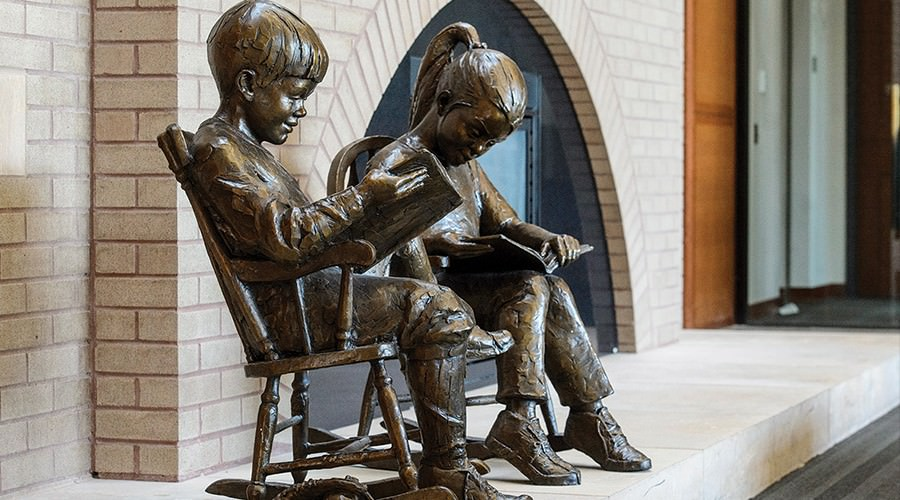person-like: (186, 2, 541, 500), (360, 15, 658, 490)
